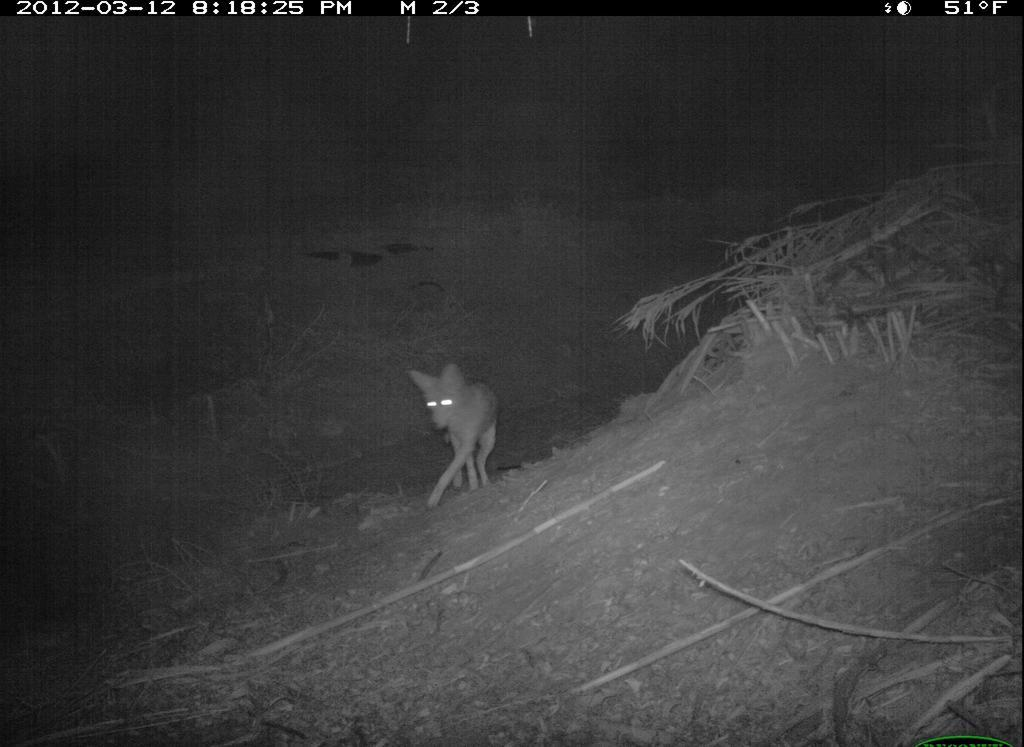coyote: (401, 349, 506, 514)
